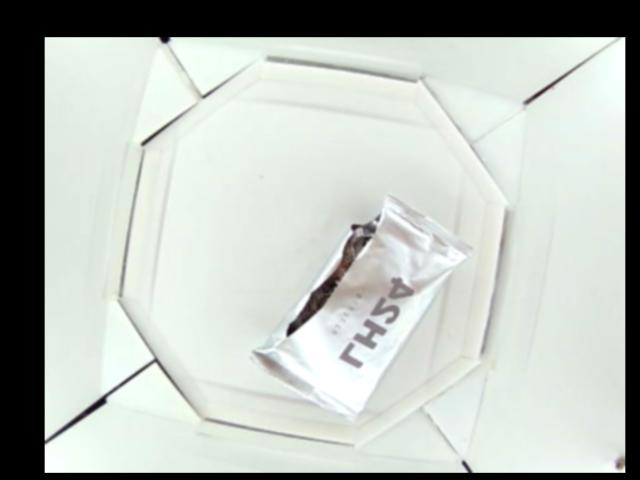Medicine: (251, 191, 470, 415)
